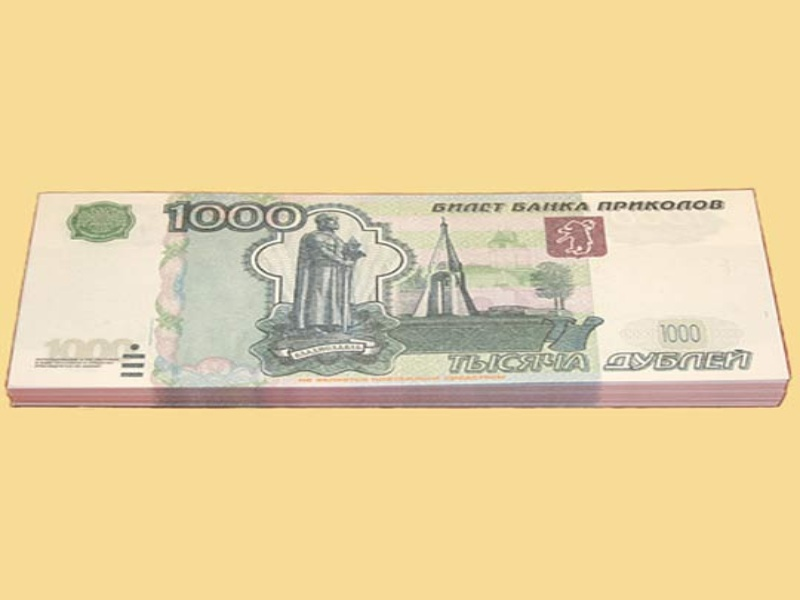cash: (7, 191, 790, 409)
